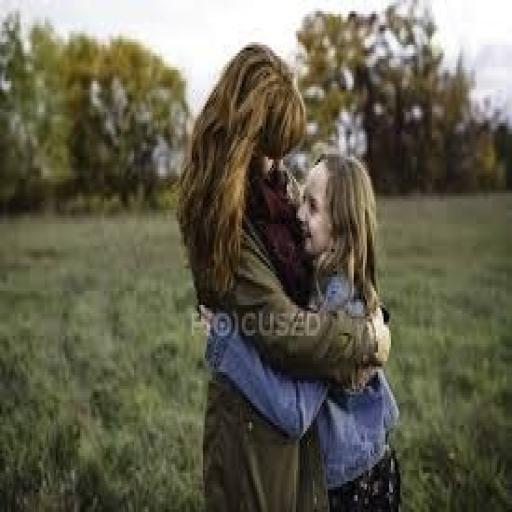hugging: (173, 39, 400, 509)
